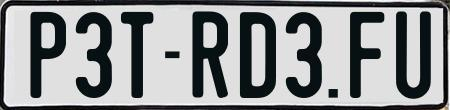3: (75, 12, 113, 100), (284, 12, 322, 100)
D: (239, 10, 277, 98)
F: (348, 9, 384, 97)
P: (28, 9, 65, 100)
R: (189, 11, 226, 104)
T: (118, 9, 155, 100)
U: (395, 9, 433, 97)
